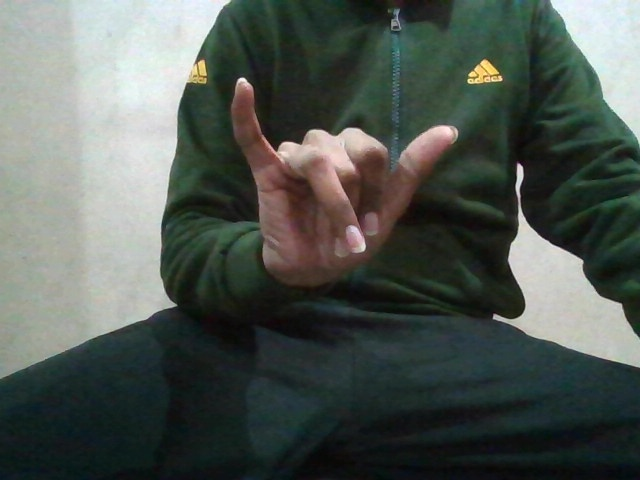Y: (228, 71, 463, 277)
